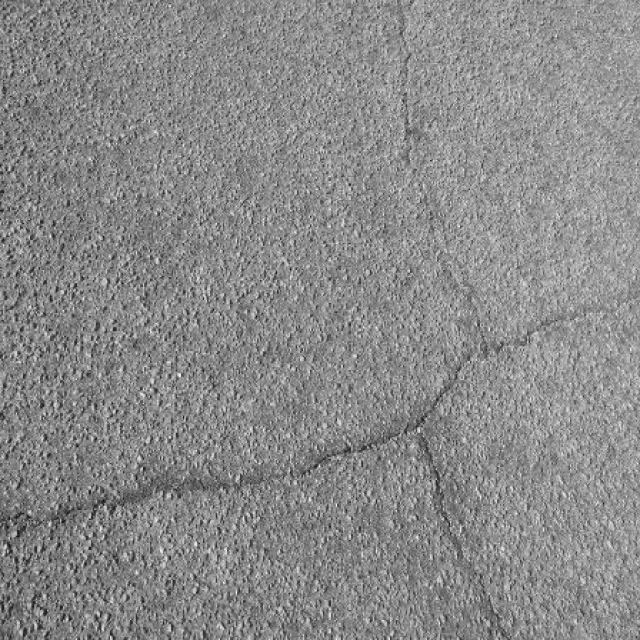Crack: (5, 5, 638, 640)
